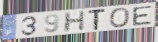3: (20, 15, 38, 37)
9: (43, 14, 61, 34)
E: (132, 5, 153, 26)
H: (63, 10, 87, 34)
O: (108, 7, 131, 29)
T: (88, 8, 107, 32)
